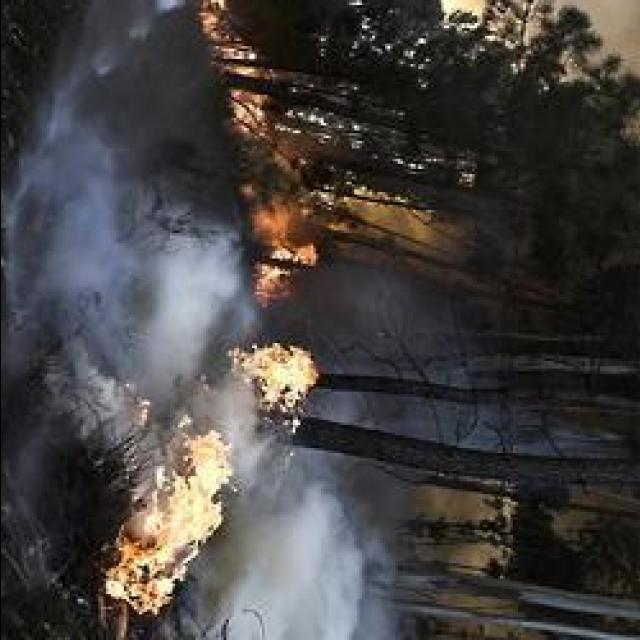fire: (105, 452, 228, 620)
smoke: (58, 170, 254, 360), (232, 481, 394, 640)
